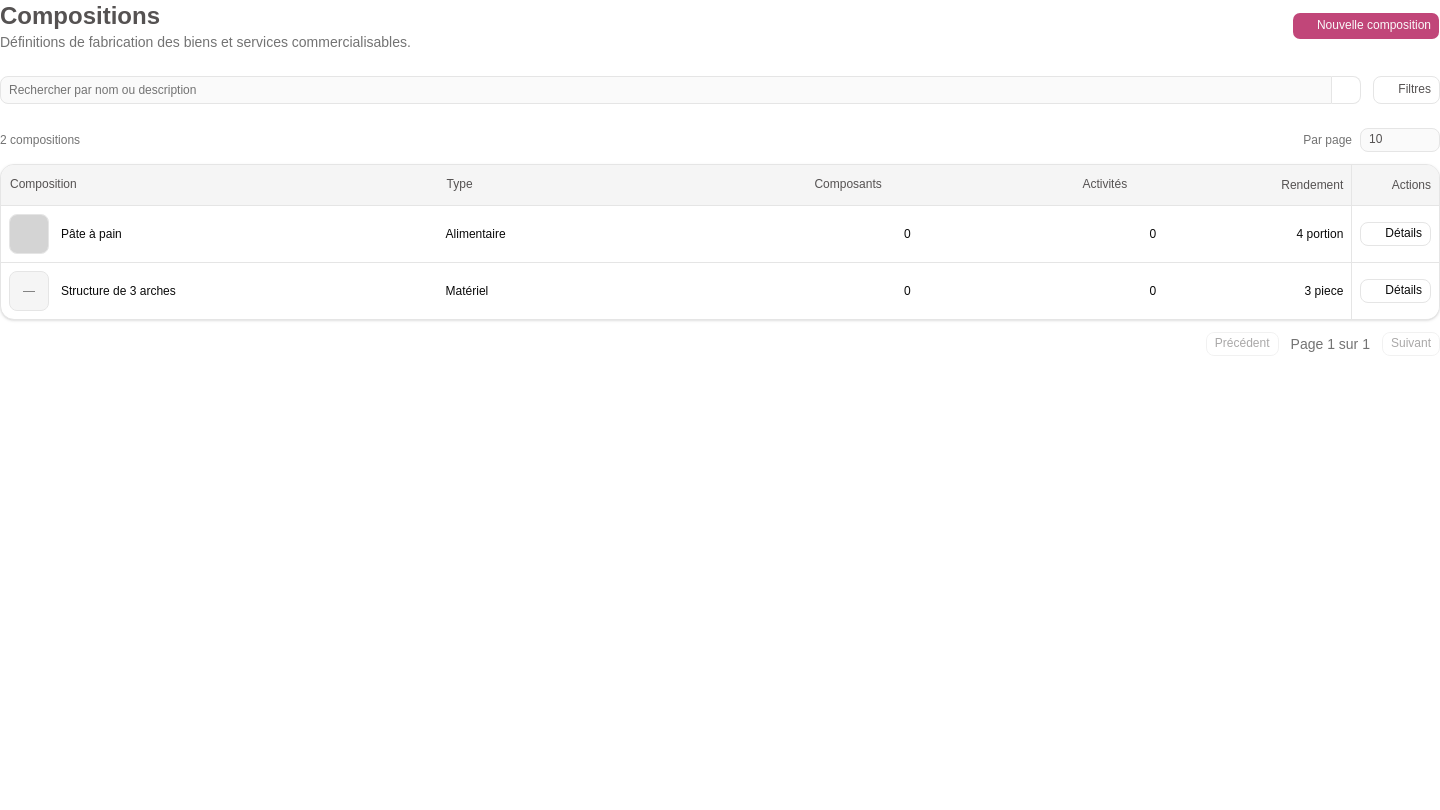
Test case: keeps the useful yield-unit filter and combines quantity and unit in Rendement
The image size is (1440, 810).
Expected: the table named "Liste des compositions" is shown, [1,165,1439,318]
Click the button "Filtres": click(1407, 90) [1373,76,1439,104]
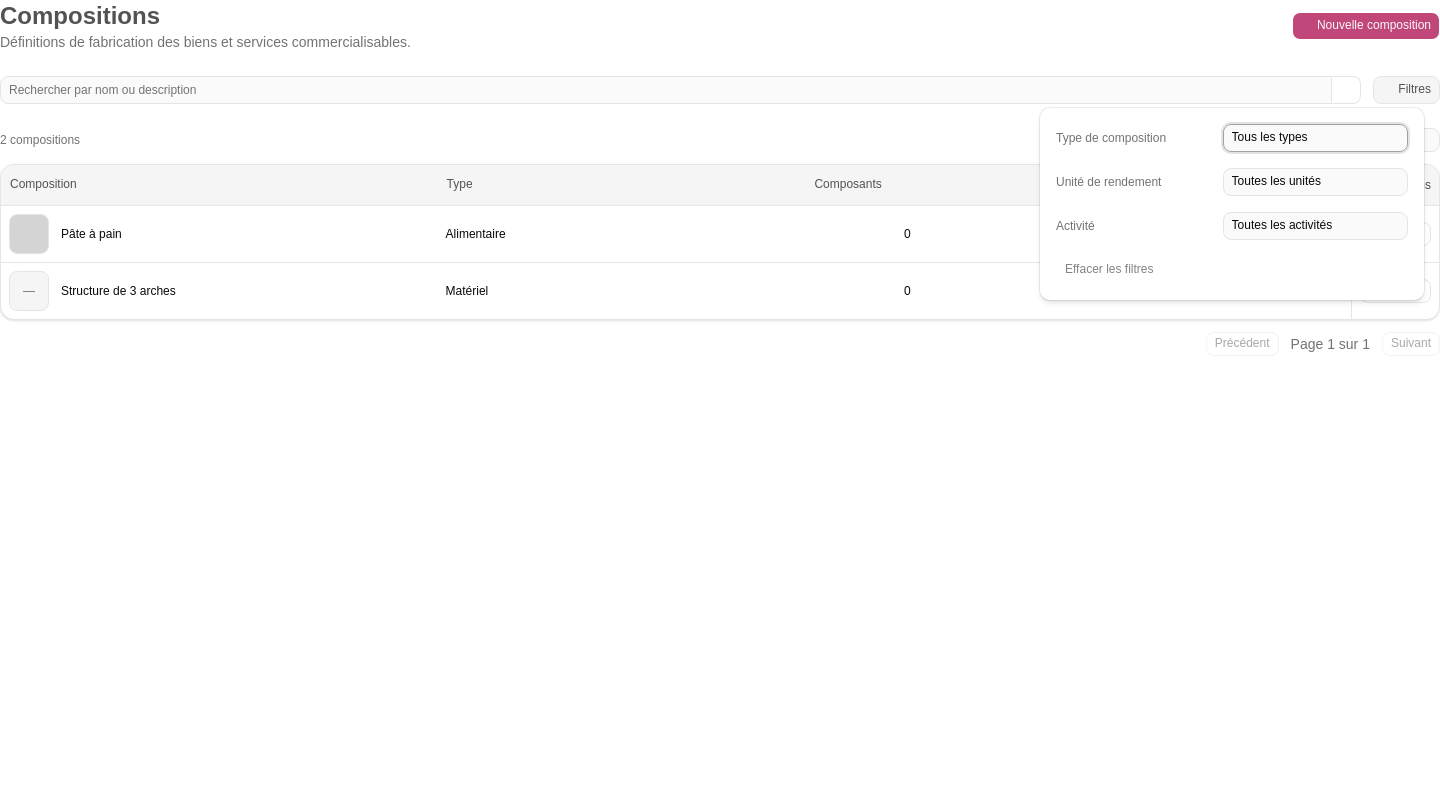
Click the dropdown named "Unité de rendement": click(1315, 182) [1222,168,1408,196]
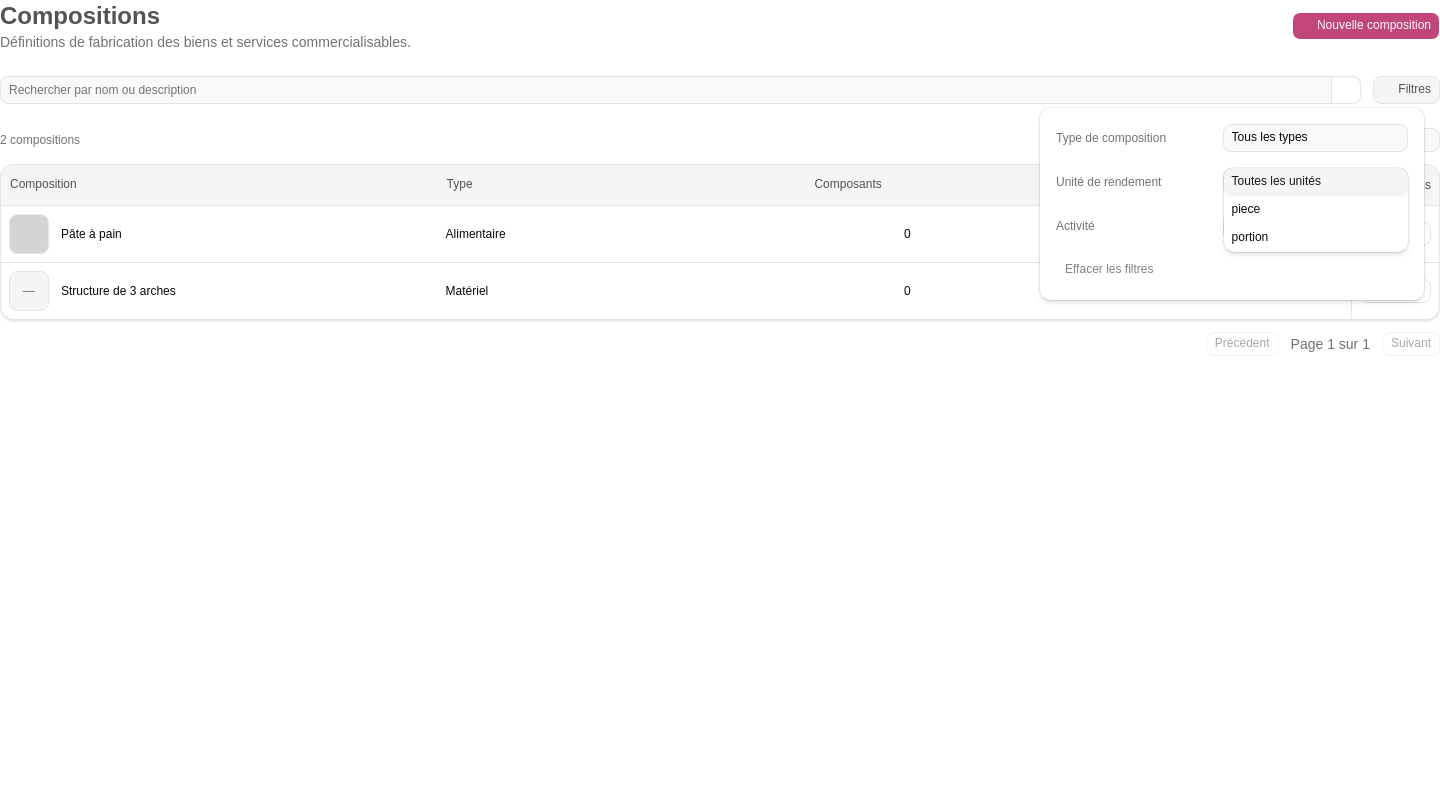
Click the option "piece": click(1246, 209) [1232,202,1260,216]
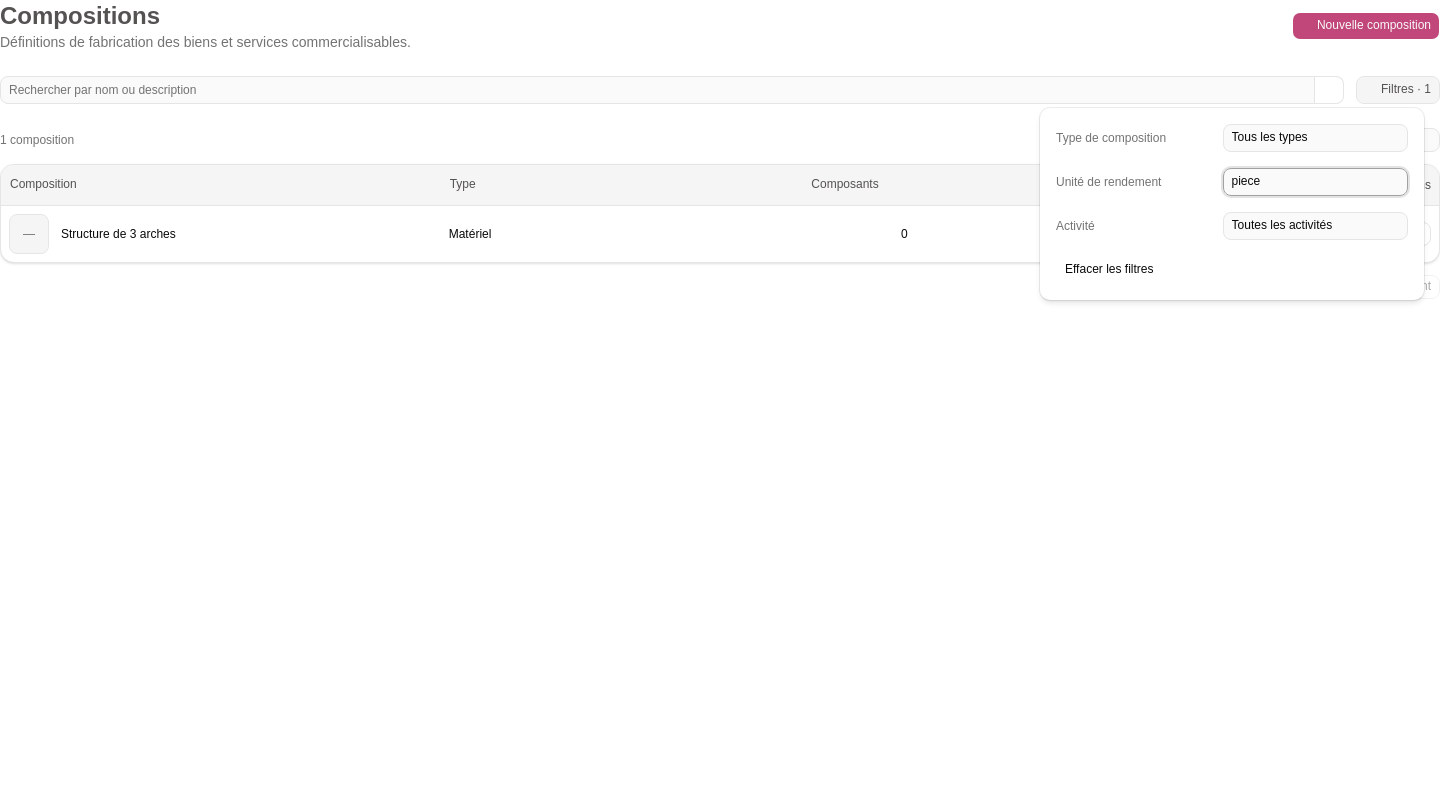
Expected: the row "— Structure de 3 arches Matériel 0 0 3 piece Détails" is shown, [1,205,1439,262]
Expected: the number of rows is 2, [1,165,1439,205]; [1,205,1439,262]
